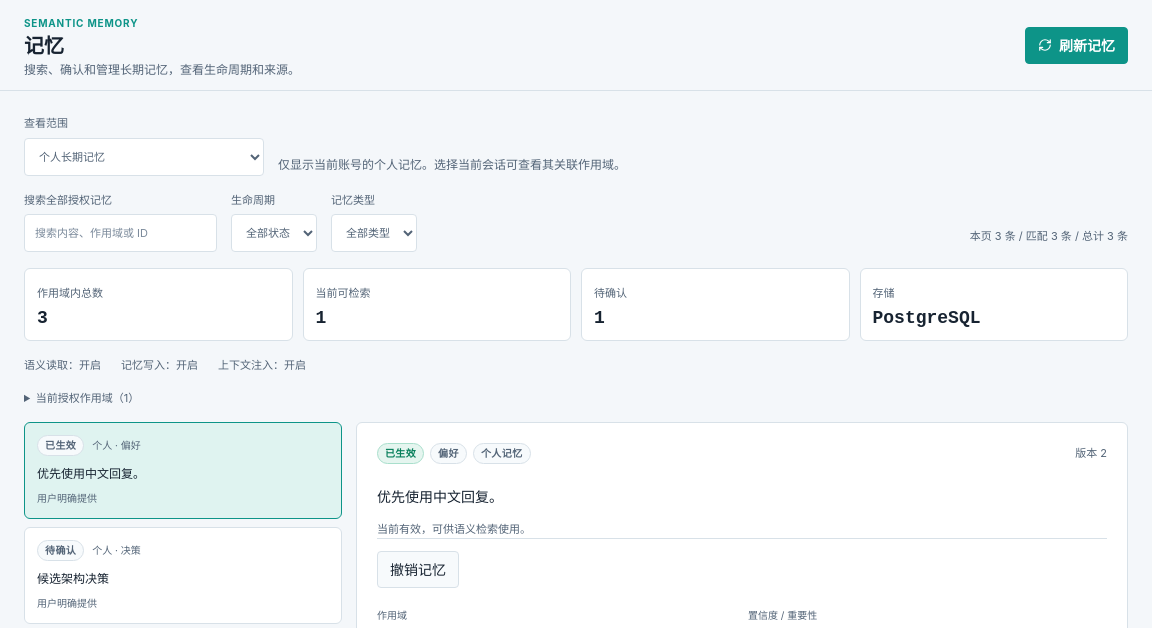
Test case: semantic memory console › searches and filters the entire authorized scope on the server
Select "待确认" in the dropdown named "记忆生命周期" at (274, 233), box top-left (231, 214), bottom-right (317, 252)
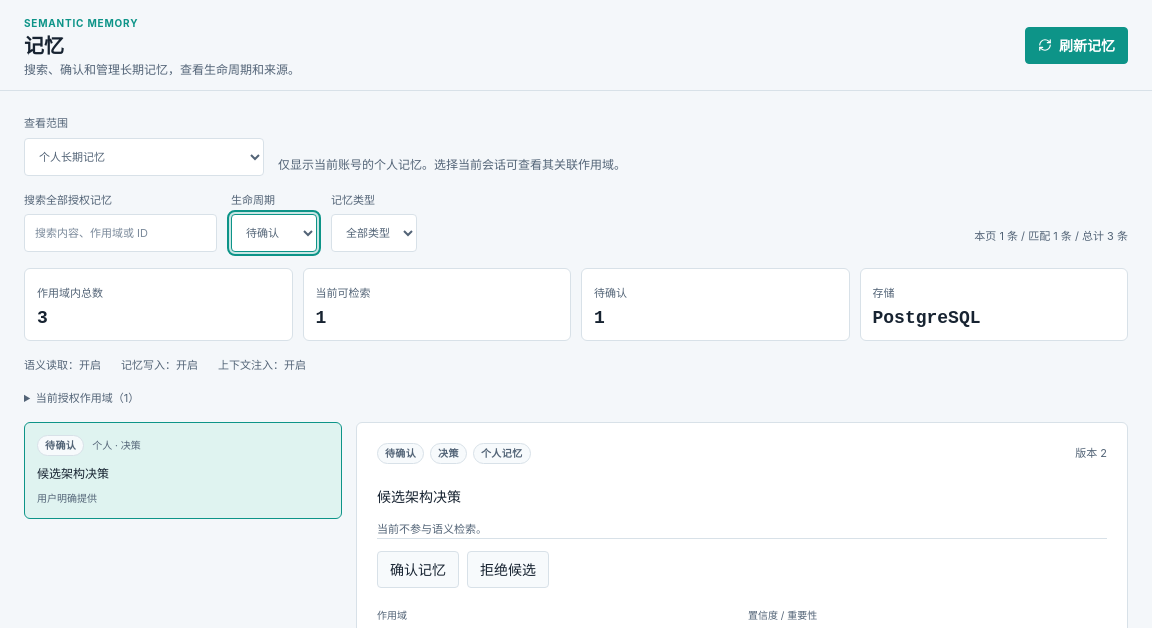
Check: the element named "记忆详情" shows "候选架构决策", box top-left (377, 488), bottom-right (461, 505)
Check: the text "当前不参与语义检索。" is shown, box top-left (377, 522), bottom-right (487, 536)
Check: the navigation bar named "长期记忆列表" no longer shows "已撤销的偏好", box top-left (24, 422), bottom-right (342, 519)
Select "决策" in the dropdown labelled "记忆类型" at (374, 233), box top-left (331, 214), bottom-right (417, 252)
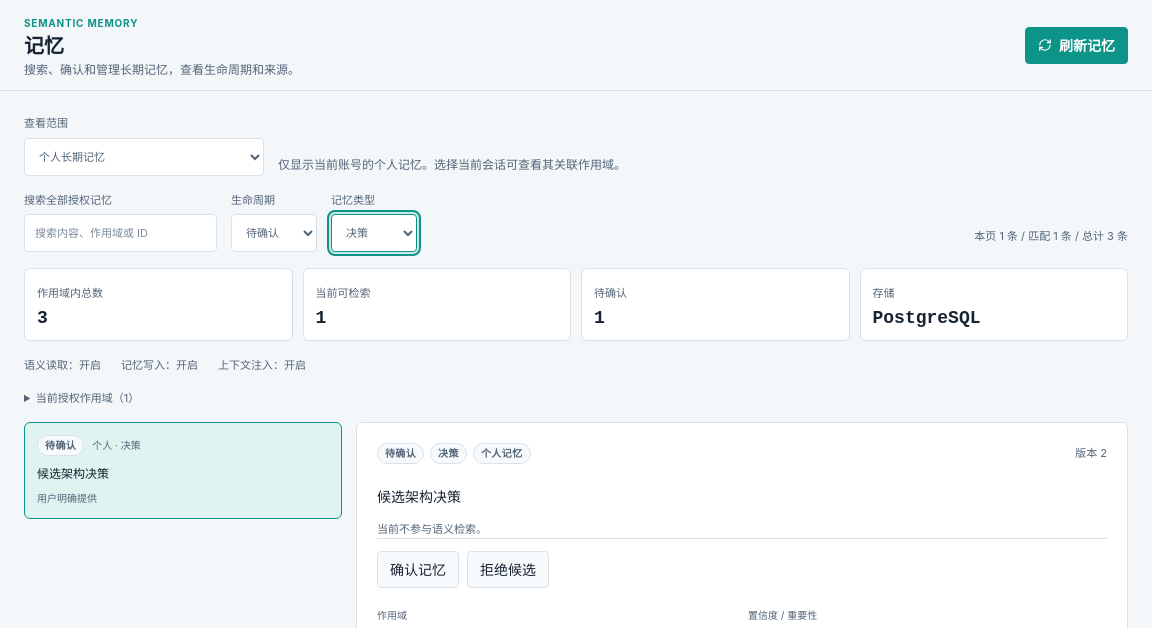
Check: the element named "记忆详情" shows "候选架构决策", box top-left (377, 488), bottom-right (461, 505)
Type "不存在的内容" into the search field named "搜索全部记忆" at (120, 233), box top-left (24, 214), bottom-right (217, 252)
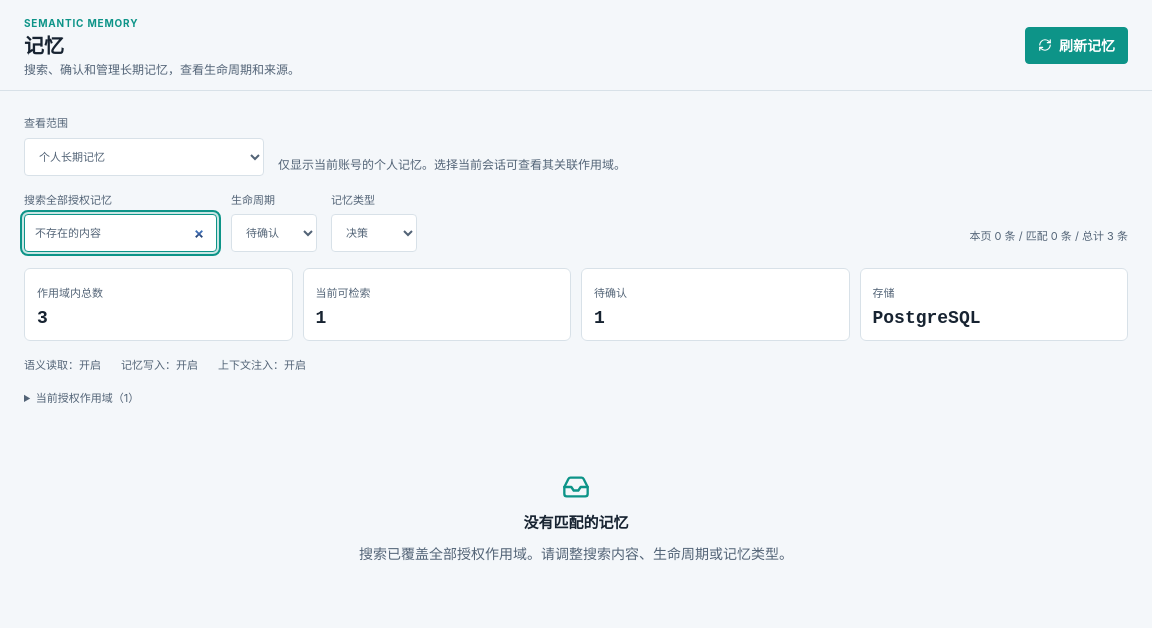
Check: the heading "没有匹配的记忆" is shown, box top-left (524, 512), bottom-right (628, 535)
